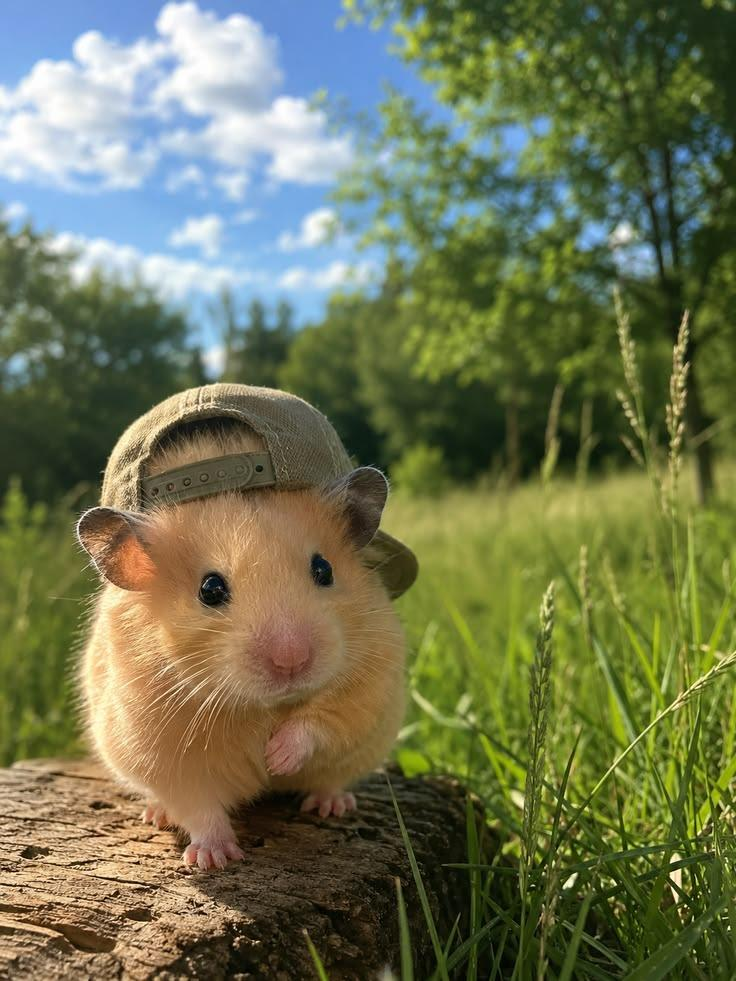hamster: (78, 468, 403, 867)
